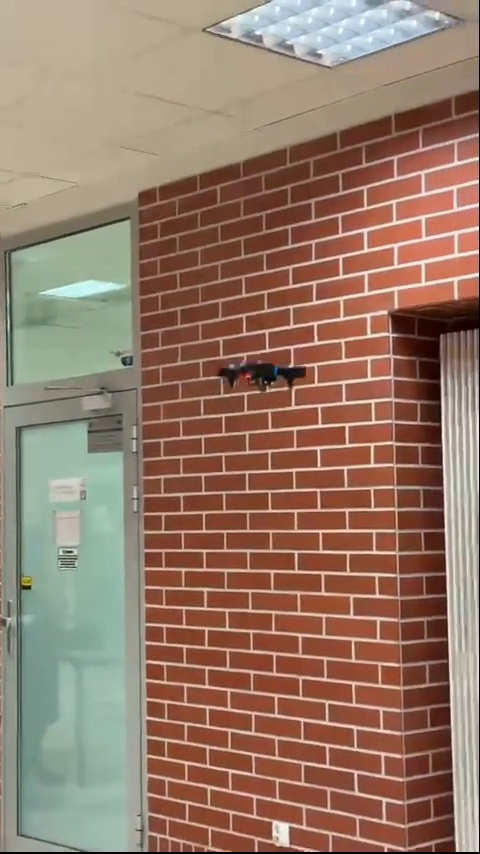drone: (216, 356, 310, 391)
